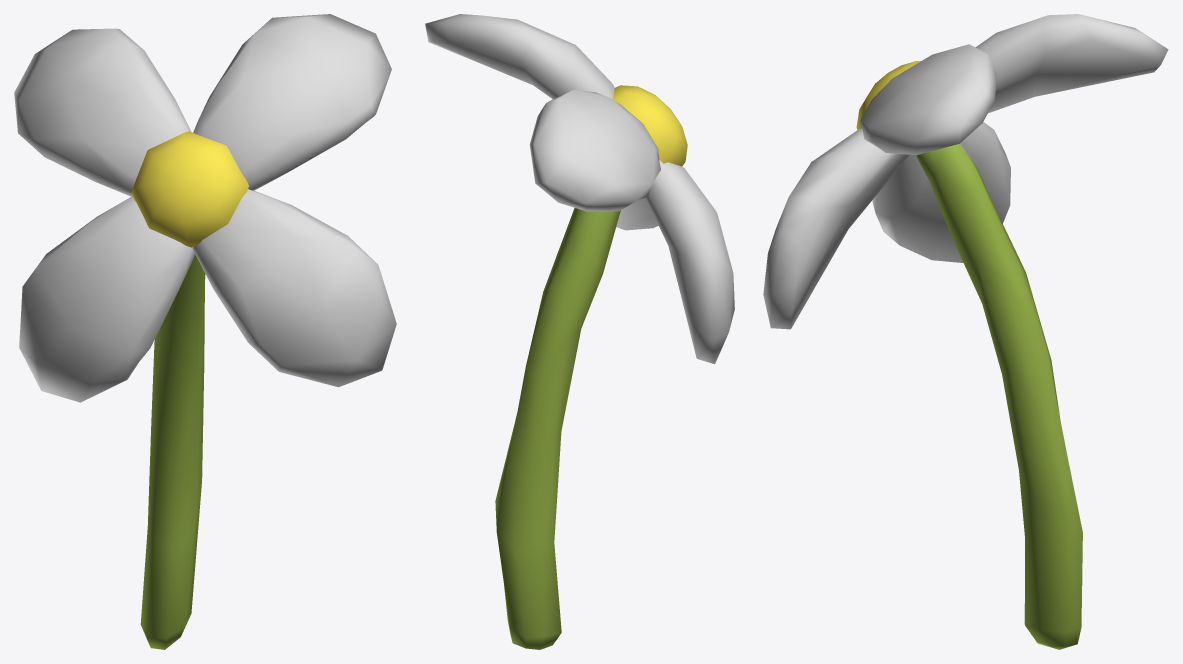
The model's file is flowerDaisy.fbx.
3 renders of one model, left to right at view 1: azimuth 30°, elevation 25°; view 2: azimuth 150°, elevation 25°; view 3: azimuth 270°, elevation 25°, orthographic. The views are drawn at different scales.
Visible parts, largest first — view 1: Plane.011; view 2: Plane.011; view 3: Plane.011.
Boxes of the visible parts, x1=… form: Plane.011: x1=14, y1=14, x2=396, y2=649; Plane.011: x1=425, y1=14, x2=734, y2=649; Plane.011: x1=763, y1=14, x2=1168, y2=649.
Size of the model in its own units: 279 by 501 by 291.
